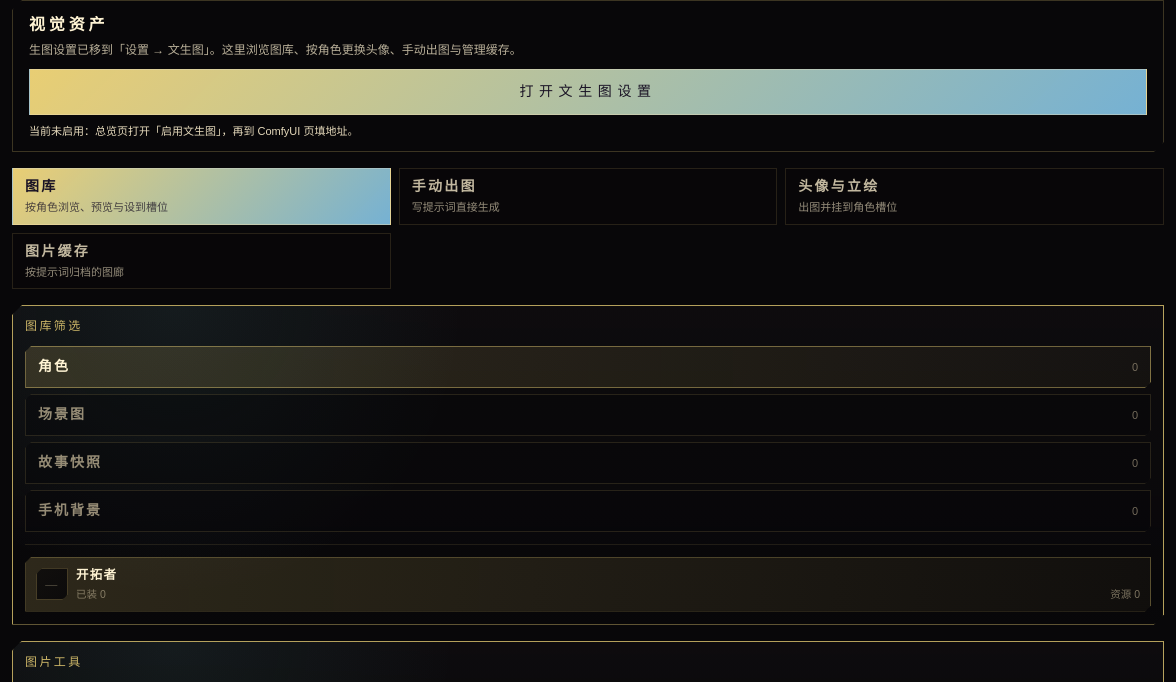
图片缓存页 › 缓存里有图时列出来：默认只给图，提示词由开关控制
Click the button "图片缓存 按提示词归档的图廊" at (57, 251), box [12,232,391,289]
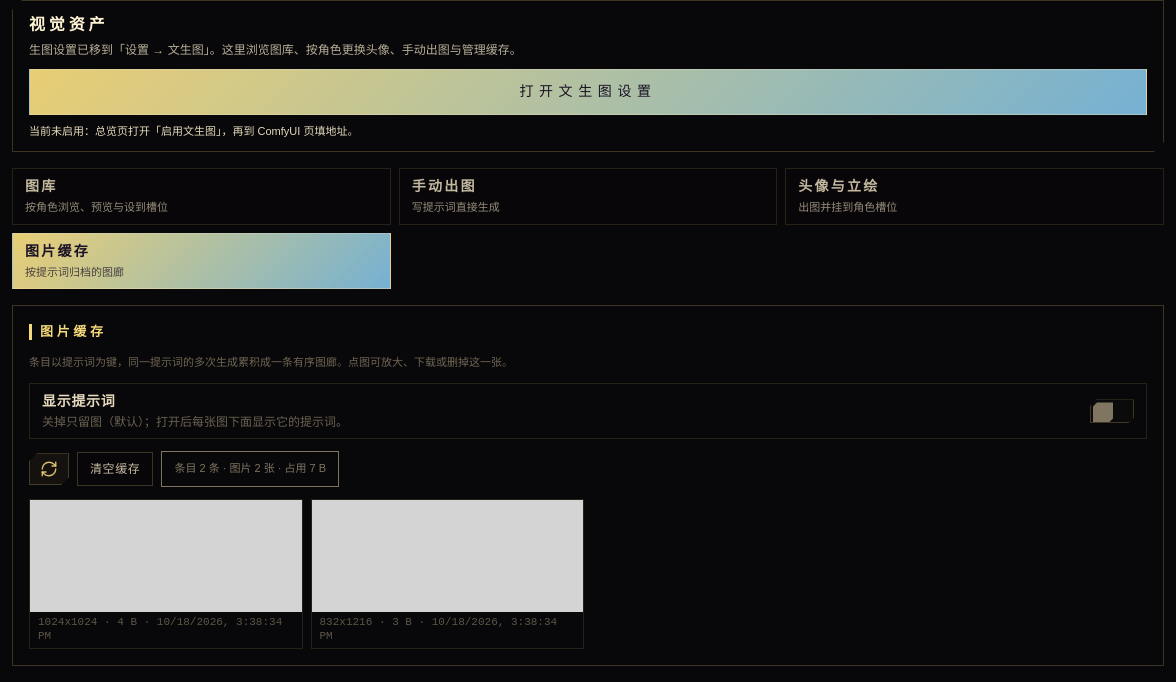
Expected: the text "1girl, white coat" is not shown
Result: the text "条目 2 条 · 图片 2 张 · 占用 7 B" is shown at [161,451,339,487]
// 打开开关后才显示提示词。
Click the button named "显示提示词" at (1112, 411), box [1090,399,1134,423]
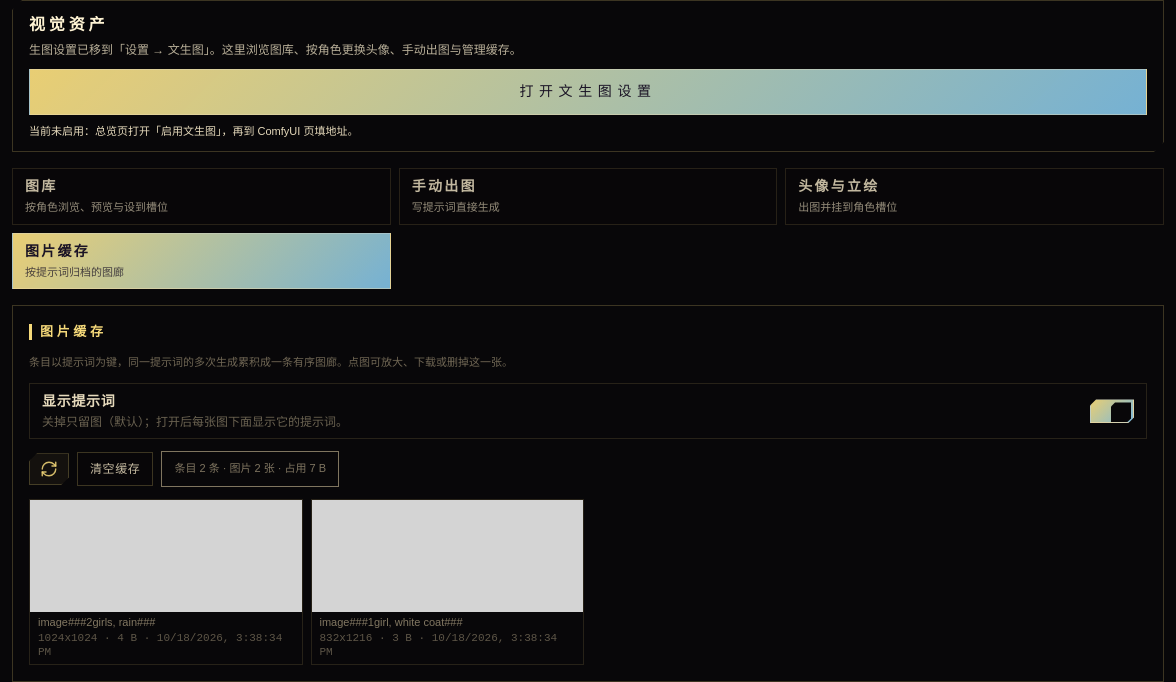
Result: the text "image###1girl, white coat###" is shown at [320,616,463,628]
Result: the text "image###2girls, rain###" is shown at [38,616,155,628]
